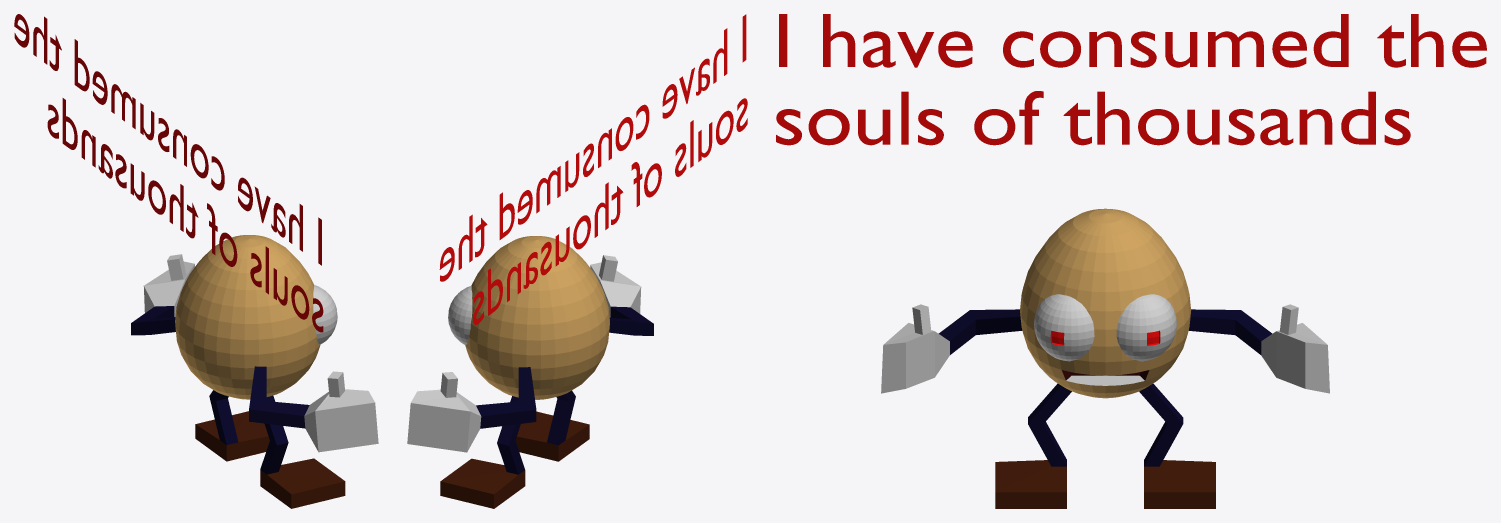
Rendered from egg.obj.
The picture shows the model from 3 angles, left to right: view 1: azimuth 30°, elevation 25°; view 2: azimuth 150°, elevation 25°; view 3: azimuth 270°, elevation 25°; orthographic projection. The views are drawn at different scales.
Parts seen in each view (by area): view 1: Sphere, Text, Cube.001, Cube, Sphere.001; view 2: Sphere, Text, Cube.001, Cube, Sphere.001; view 3: Text, Sphere, Cube.001, Cube, Sphere.001.
Boxes of the visible parts, x1,y1,x2,y2 form: Sphere: (175, 235, 320, 399); Text: (14, 14, 323, 332); Cube.001: (131, 254, 378, 452); Cube: (195, 390, 345, 508); Sphere.001: (313, 285, 337, 344); Sphere: (465, 236, 609, 399); Text: (439, 14, 747, 324); Cube.001: (407, 255, 653, 452); Cube: (440, 390, 589, 508); Sphere.001: (448, 286, 472, 344); Text: (776, 14, 1486, 145); Sphere: (1020, 208, 1191, 398); Cube.001: (881, 304, 1329, 393); Cube: (995, 383, 1215, 508); Sphere.001: (1034, 294, 1176, 361).
Size of the model in its own units: 2.15 by 5.53 by 8.3.
